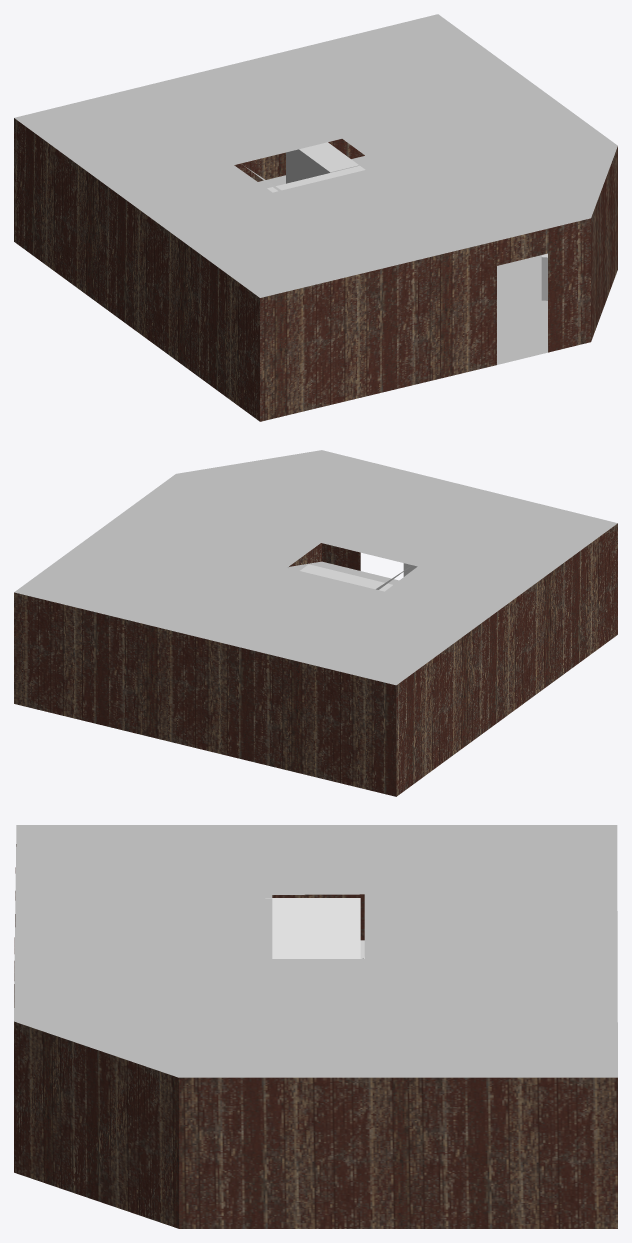
File: biblioteca primeiroandar.fbx
The picture shows the model from 3 angles, top to bottom: view 1: azimuth 30°, elevation 25°; view 2: azimuth 150°, elevation 25°; view 3: azimuth 270°, elevation 25°; orthographic projection. The views are drawn at different scales.
Visible parts, largest first — view 1: primeiro andar, Prateleira, Prateleira.005; view 2: primeiro andar, Prateleira.006; view 3: primeiro andar, Plane.
Part boxes in pixels (box(x1,y1,x2,y2)): primeiro andar: box(14, 14, 617, 421); Prateleira: box(286, 142, 359, 183); Prateleira.005: box(267, 165, 365, 192); primeiro andar: box(14, 450, 617, 796); Prateleira.006: box(300, 564, 392, 591); primeiro andar: box(14, 825, 617, 1228); Plane: box(265, 898, 360, 958).
Bounding box in the file's own units: 1075 × 300 × 1085.
